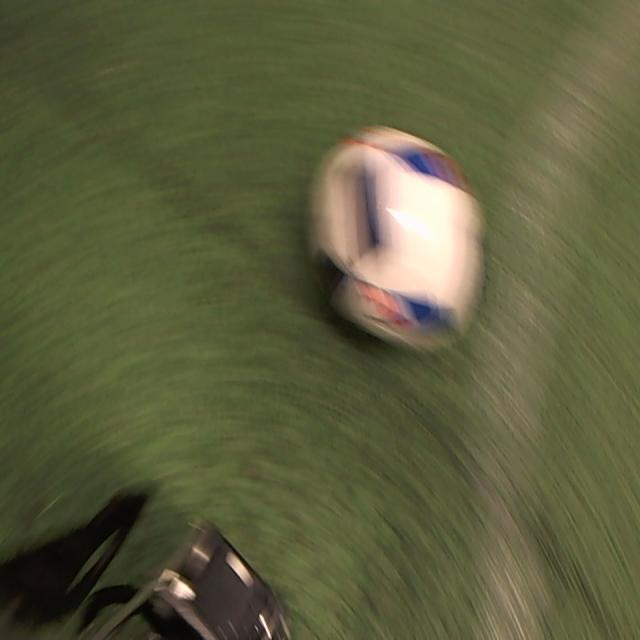ball: (307, 125, 486, 355)
